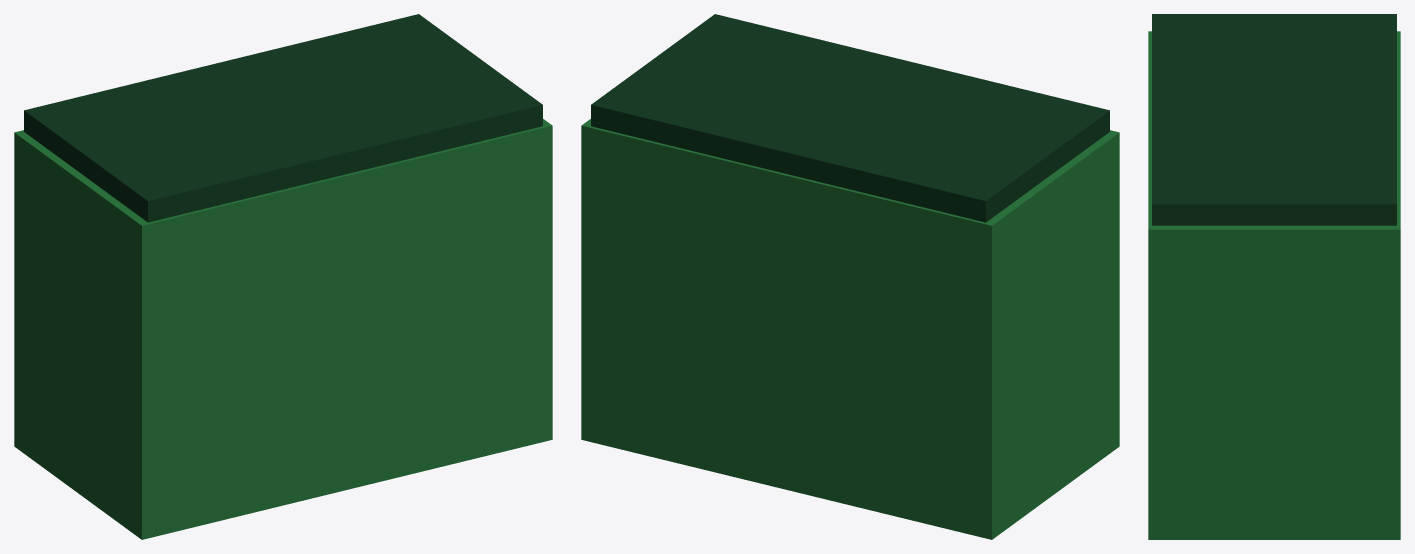
Rendered from dumpster.dae.
3 renders of one model, left to right at view 1: azimuth 30°, elevation 25°; view 2: azimuth 150°, elevation 25°; view 3: azimuth 270°, elevation 25°, orthographic.
Visible parts, largest first — view 1: bin, lid; view 2: bin, lid; view 3: bin, lid.
Boxes of the visible parts, left/top/right/bottom form: bin: left=14, top=119, right=552, bottom=539; lid: left=24, top=14, right=542, bottom=222; bin: left=581, top=119, right=1119, bottom=539; lid: left=591, top=14, right=1109, bottom=222; bin: left=1148, top=31, right=1400, bottom=539; lid: left=1152, top=14, right=1396, bottom=225.
Bounding box in the file's own units: 2.6 × 1.4 × 2.03.
